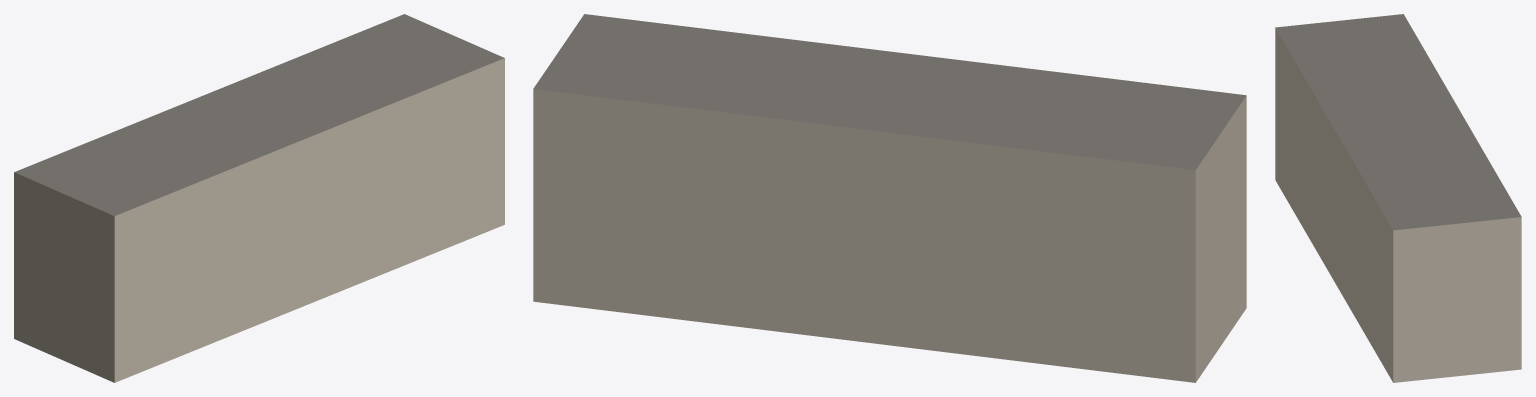
3 renders of one model, left to right at view 1: azimuth 30°, elevation 25°; view 2: azimuth 150°, elevation 25°; view 3: azimuth 270°, elevation 25°, orthographic. The views are drawn at different scales.
Parts seen in each view (by area): view 1: HP-w378107173; view 2: HP-w378107173; view 3: HP-w378107173.
Part boxes in pixels (x1,y1,x2,y2): HP-w378107173: [14, 14, 504, 382]; HP-w378107173: [533, 14, 1246, 382]; HP-w378107173: [1275, 14, 1521, 382].
Bounding box in the file's own units: 36.52 × 12 × 17.57.
